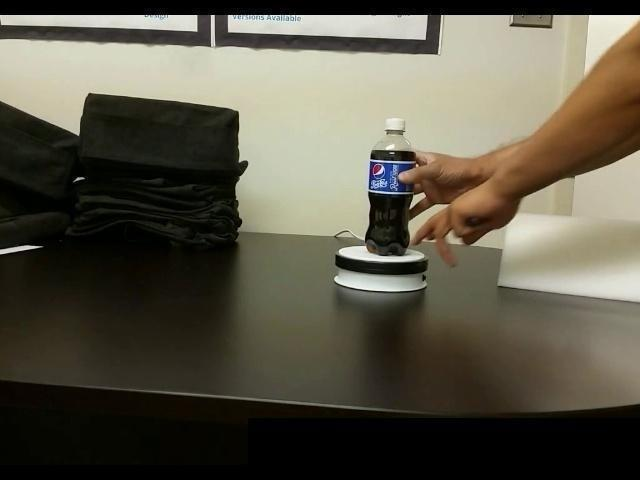bottle-plastic: (360, 115, 421, 261)
